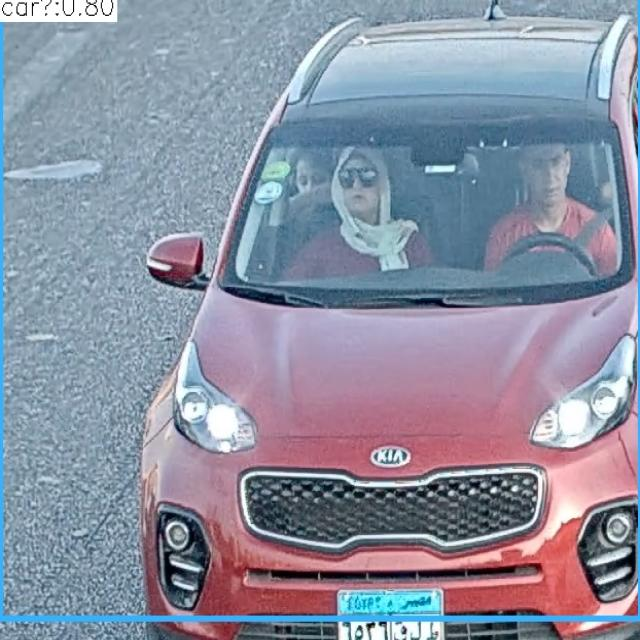windshield: (219, 131, 632, 292)
